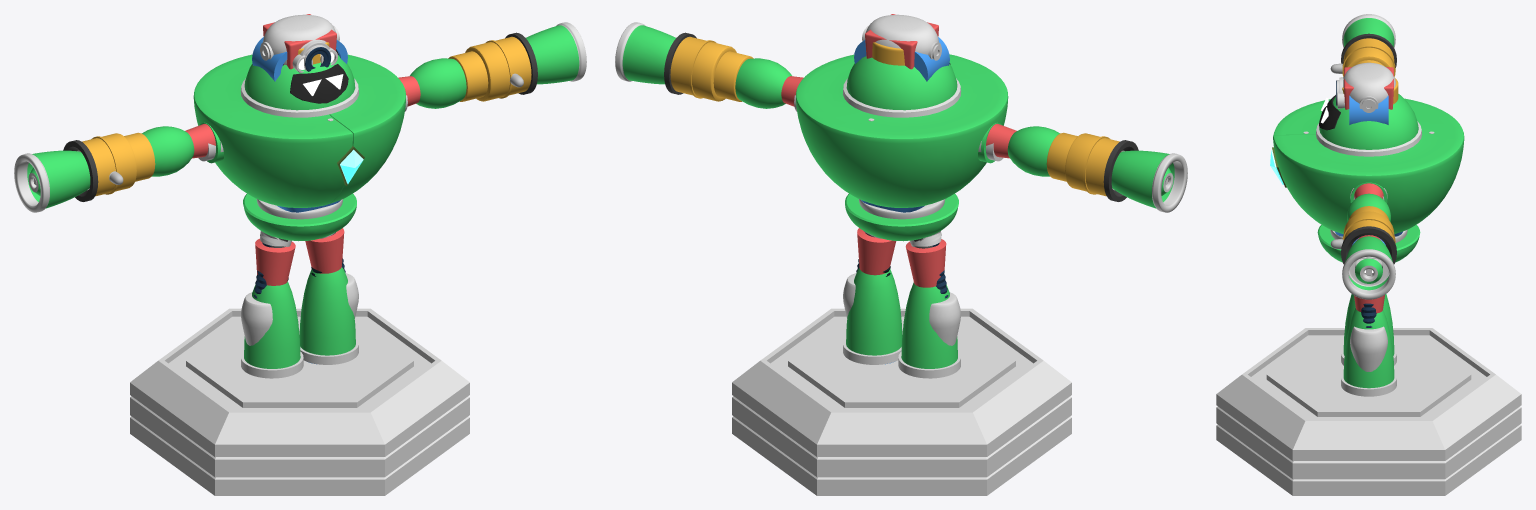
The model's file is compressedv5.glb.
3 renders of one model, left to right at view 1: azimuth 30°, elevation 25°; view 2: azimuth 150°, elevation 25°; view 3: azimuth 270°, elevation 25°, orthographic. The views are drawn at different scales.
Visible parts, largest first — view 1: 2-Base, 2-Bodybase, 5-Base, 4-Base, 2-FootR.001, 1-weaponR.001, 1-Base, 2-FootL.001, 1-weaponL.001, 2-torso, 2-face.001, 3-Base (+18 smaller); view 2: 2-Base, 2-Bodybase, 1-Base, 2-face.001, 4-Base, 2-FootR.001, 1-weaponR.001, 5-Base, 1-weaponL.001, 2-FootL.001, 3-Base, 2-torso (+17 smaller); view 3: 2-Base, 2-Bodybase, 5-Base, 4-Base, 2-face.001, 3-Base, 2-FootR.001, 1-Base, 3-Head-base, 2-WeaponR.002, 3-LowerLegR, 1-weaponL.001 (+13 smaller).
Boxes of the visible parts, x1,y1,x2,y2 form: 2-Base: [130, 308, 469, 456]; 2-Bodybase: [193, 54, 405, 207]; 5-Base: [130, 396, 469, 471]; 4-Base: [130, 421, 469, 495]; 2-FootR.001: [299, 267, 355, 355]; 1-weaponR.001: [448, 36, 531, 101]; 1-Base: [130, 403, 469, 477]; 2-FootL.001: [244, 281, 300, 368]; 1-weaponL.001: [82, 132, 155, 196]; 2-torso: [243, 193, 356, 241]; 2-face.001: [244, 55, 355, 110]; 3-Base: [130, 416, 469, 491]; 2-Base: [732, 308, 1071, 456]; 2-Bodybase: [796, 54, 1008, 207]; 1-Base: [732, 403, 1071, 477]; 2-face.001: [846, 56, 957, 110]; 4-Base: [732, 421, 1071, 495]; 2-FootR.001: [846, 268, 902, 355]; 1-weaponR.001: [670, 36, 753, 101]; 5-Base: [732, 396, 1071, 471]; 1-weaponL.001: [1046, 132, 1119, 196]; 2-FootL.001: [901, 282, 957, 368]; 3-Base: [732, 416, 1071, 483]; 2-torso: [845, 193, 958, 241]; 2-Base: [1216, 328, 1521, 460]; 2-Bodybase: [1273, 98, 1464, 234]; 5-Base: [1216, 406, 1521, 474]; 4-Base: [1216, 429, 1521, 495]; 2-face.001: [1319, 94, 1418, 149]; 3-Base: [1216, 424, 1521, 492]; 2-FootR.001: [1343, 308, 1394, 388]; 1-Base: [1216, 412, 1521, 479]; 3-Head-base: [1343, 62, 1395, 103]; 2-WeaponR.002: [1342, 249, 1395, 299]; 3-LowerLegR: [1350, 326, 1387, 371]; 1-weaponL.001: [1342, 38, 1395, 76].
Bounding box in the file's own units: 6.64 × 4.8 × 3.6.
